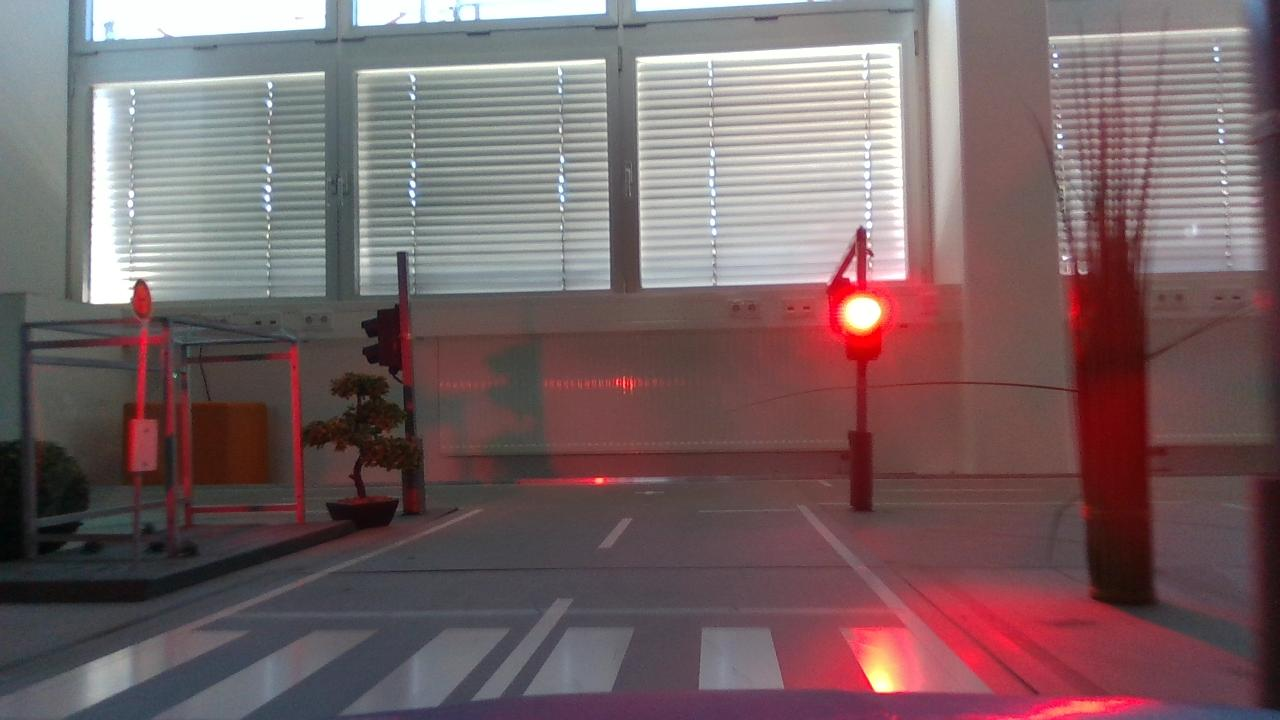traffic_light_red: (834, 284, 895, 374)
